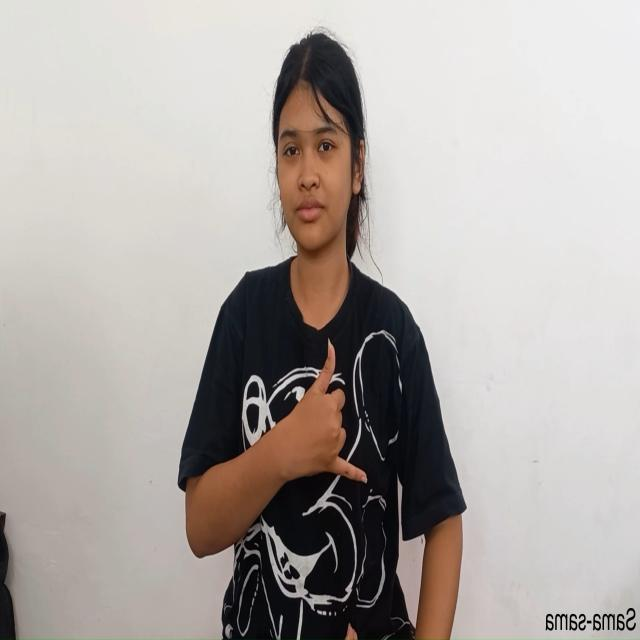Sama-sama -BISINDO-: (278, 325, 370, 512)
